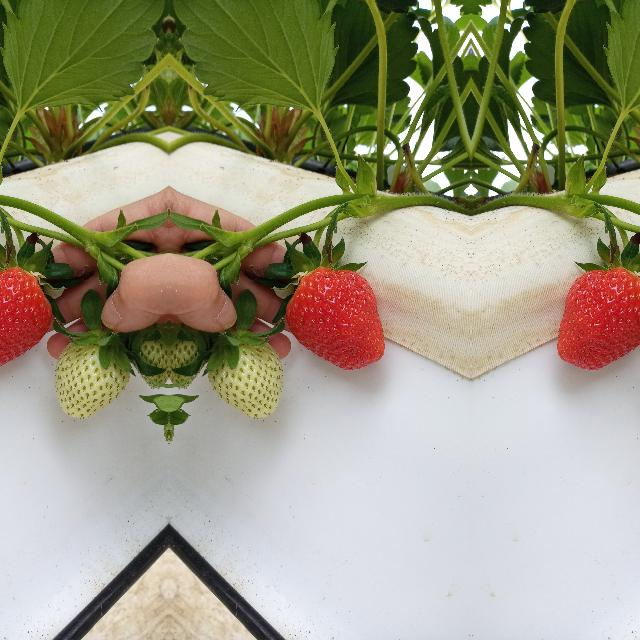Health_100: (285, 266, 385, 370), (556, 265, 640, 370), (0, 265, 51, 370)
Health_25: (197, 320, 279, 432), (57, 320, 139, 432)
